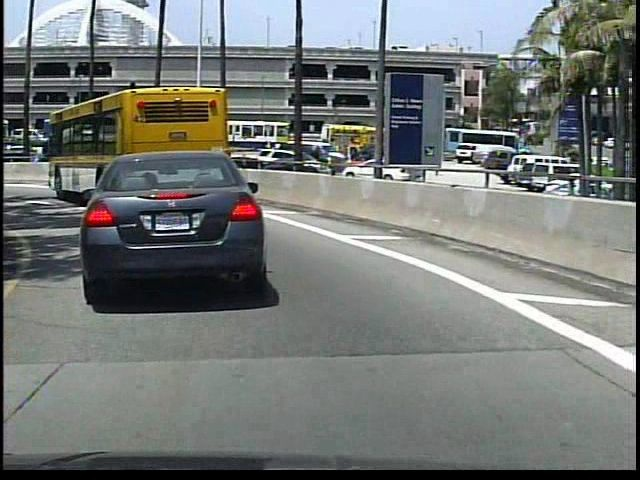person: (306, 142, 323, 178)
